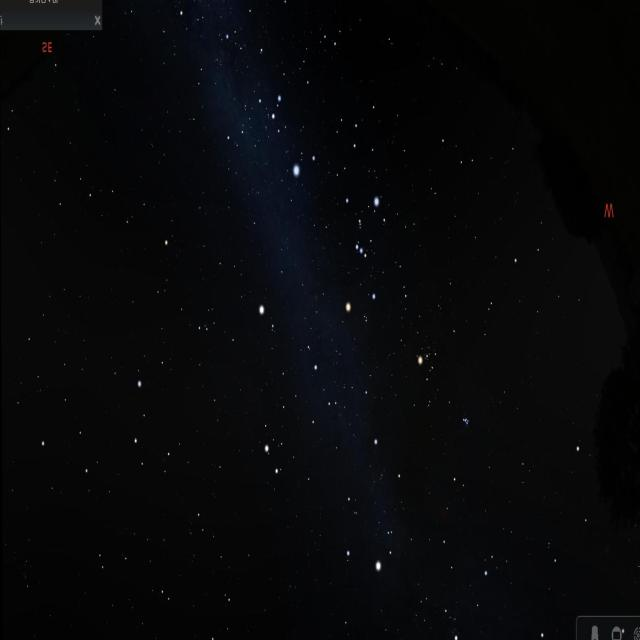canis_major: (268, 87, 323, 182)
canis_minor: (256, 299, 278, 336)
gemini: (262, 354, 340, 480)
leo: (34, 370, 178, 505)
orion: (325, 179, 391, 324)
pleiades: (458, 415, 472, 433)
taurus: (399, 320, 484, 446)
